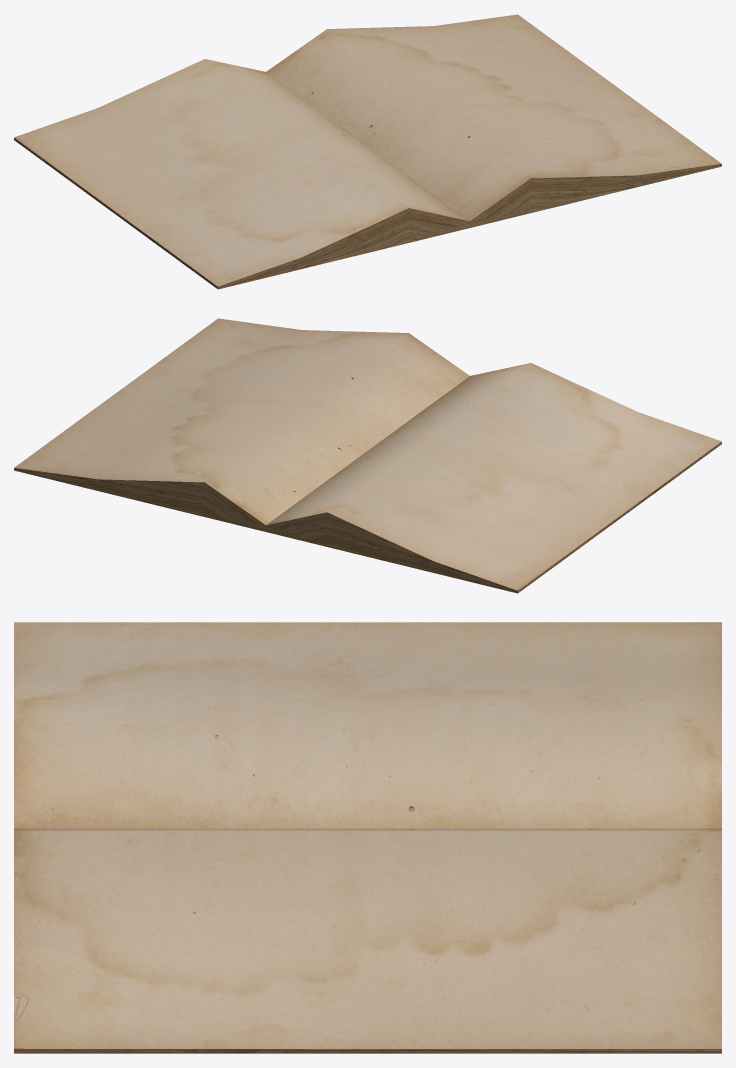
Rendered from OpenBook.fbx.
3 views of the same model, one above another, from view 1: azimuth 30°, elevation 25°; view 2: azimuth 150°, elevation 25°; view 3: azimuth 270°, elevation 25° (orthographic). The views are drawn at different scales.
Visible parts, largest first — view 1: OpenBook; view 2: OpenBook; view 3: OpenBook.
Part boxes in pixels (left/top/right/bottom): OpenBook: left=14, top=14, right=721, bottom=289; OpenBook: left=14, top=318, right=721, bottom=593; OpenBook: left=14, top=622, right=721, bottom=1053.
Size of the model in its own units: 2.69 by 0.177 by 1.89.
Materials: 1 (1 with a texture image).
